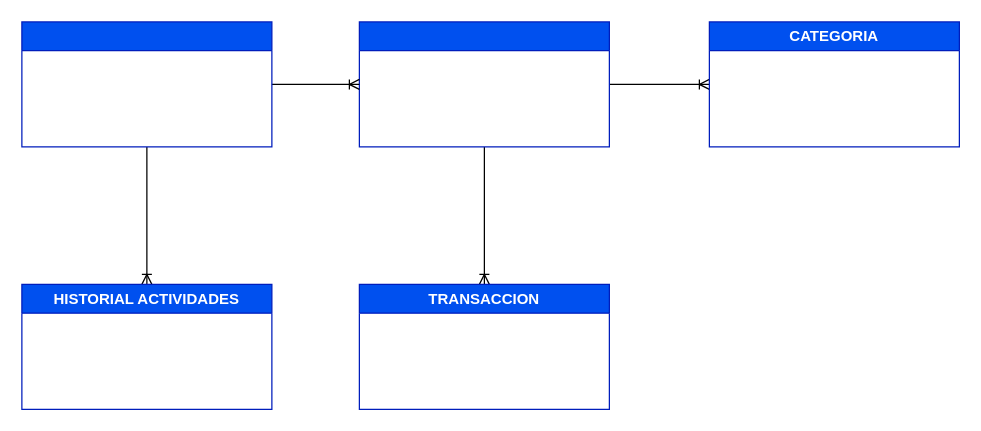
This 981x431 diagram has some shape labels left out. The box of each missing label's shape, as (x1, y1, x2, y2) in pixels:
ANTIGUEDAD: (358, 21, 609, 147)
USUARIO: (21, 21, 272, 147)
